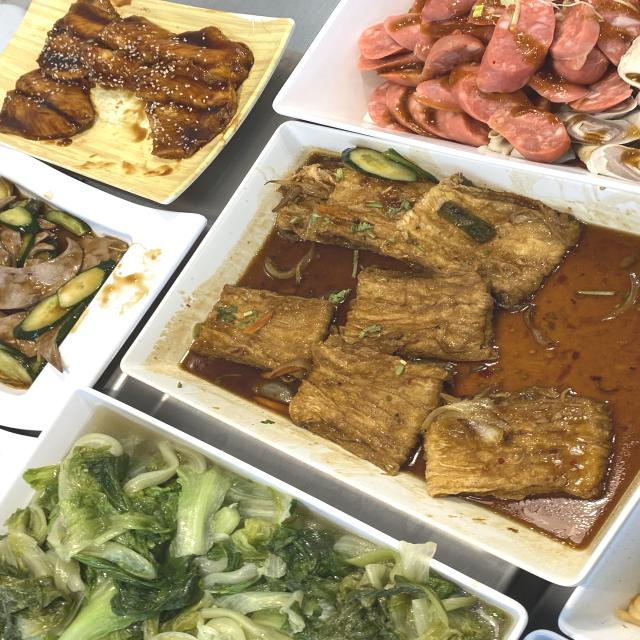bean bag: (294, 211, 563, 429)
